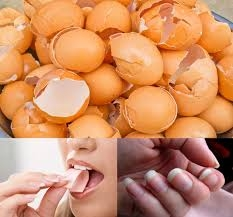kitchen_waste: (153, 36, 219, 120), (103, 28, 173, 89), (28, 68, 101, 123), (116, 82, 183, 138), (43, 22, 111, 75), (134, 1, 205, 49), (29, 1, 87, 42), (9, 101, 70, 138), (84, 1, 139, 39), (1, 78, 43, 119), (1, 39, 34, 90)
